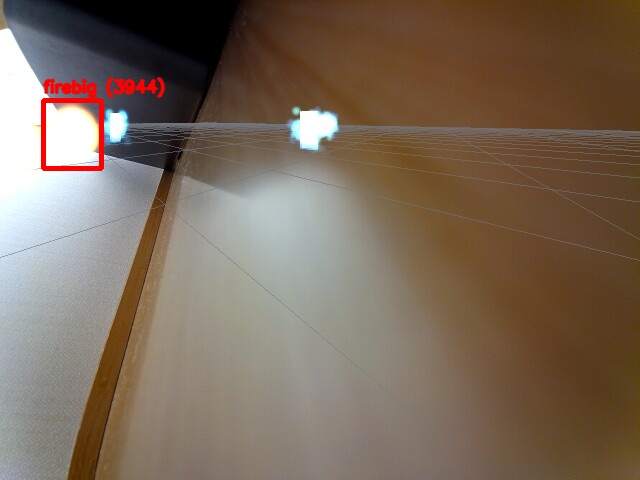firebig: (43, 100, 101, 168)
